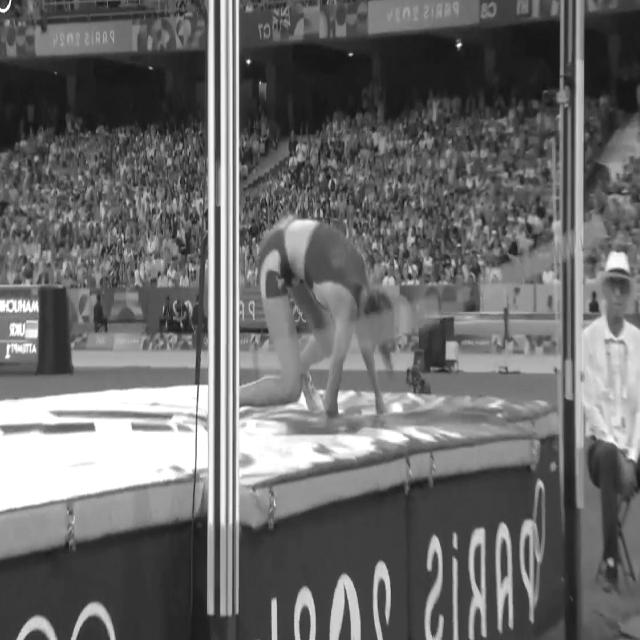land: (239, 214, 398, 422)
